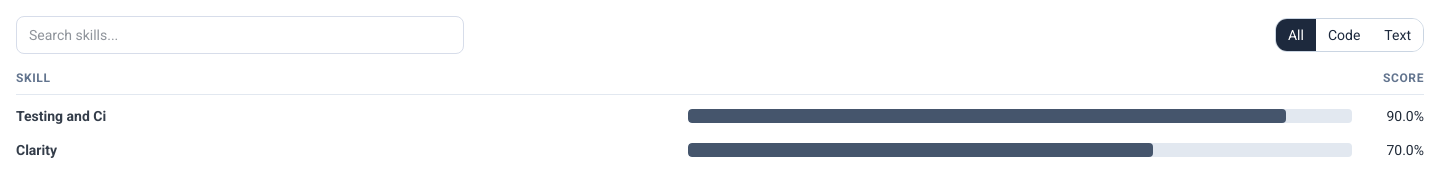
SkillsOverview › filters to text skills when Text clicked
The width and height of the screenshot is (1440, 175).
Click the button "Text". click: (1398, 35)
box: [1372,19,1423,51]
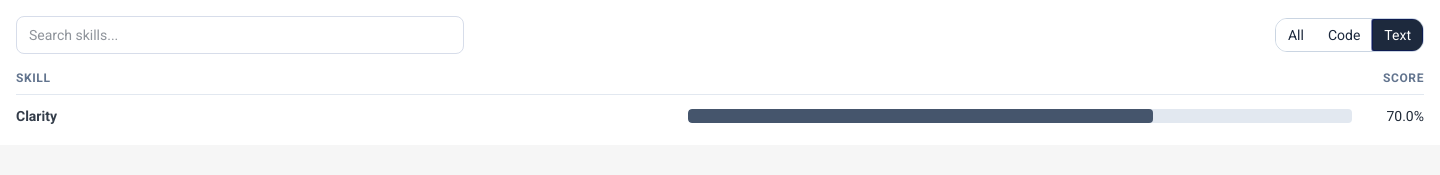
Expected: the text "Clarity" is shown, [16,106,57,126]
Result: the text "Testing and Ci" is not shown
